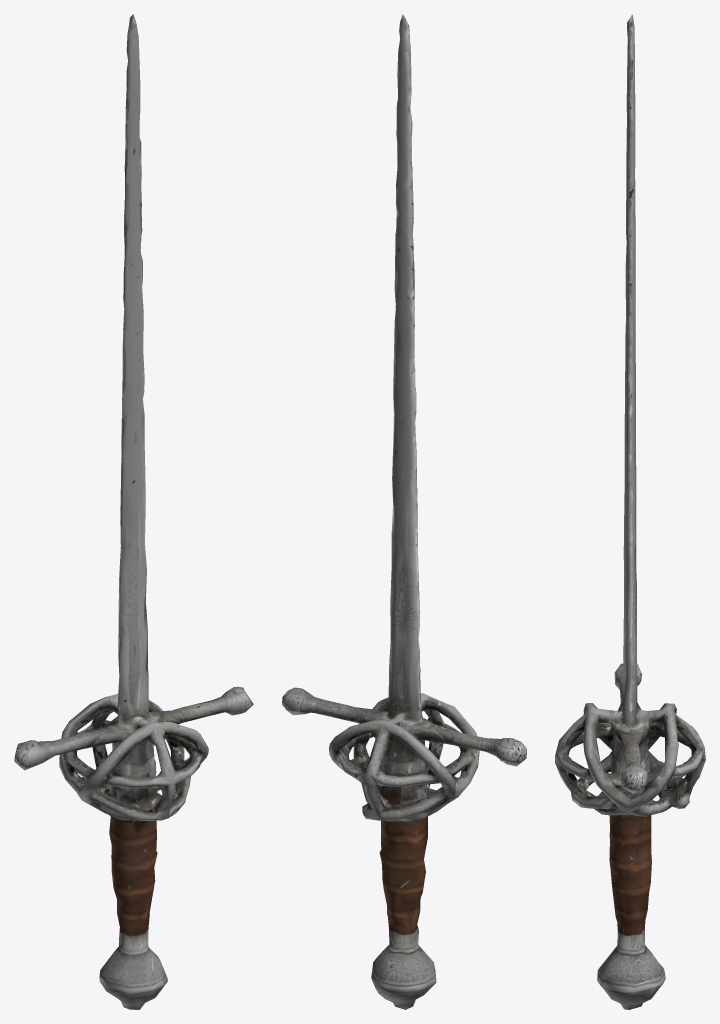
The model's file is 1242_rapier.glb.
3 views of the same model, side by side, from view 1: azimuth 30°, elevation 25°; view 2: azimuth 150°, elevation 25°; view 3: azimuth 270°, elevation 25° (orthographic).
Visible parts, largest first — view 1: Model; view 2: Model; view 3: Model.
Boxes of the visible parts, <box> form: Model: <box>14,14,253,1009</box>; Model: <box>282,14,526,1009</box>; Model: <box>555,14,705,1009</box>.
Bounding box in the file's own units: 0.2496 × 1 × 0.1375.
1 material, 1 textured.
